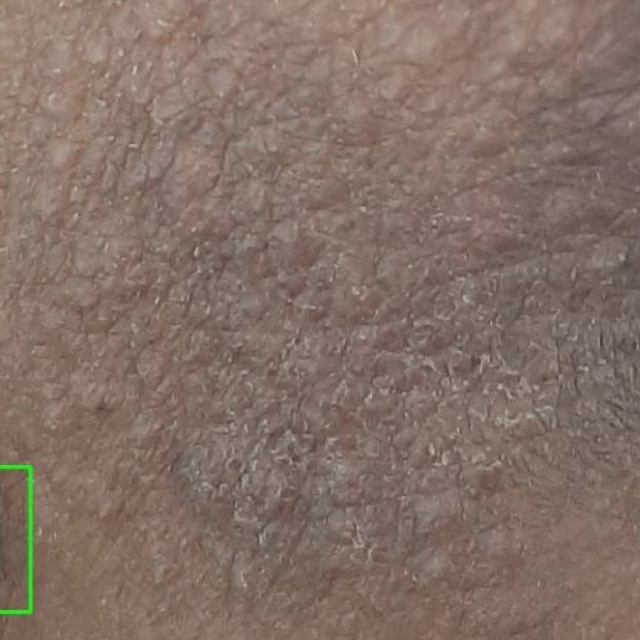Contact Dermatitis: (0, 466, 30, 611)
